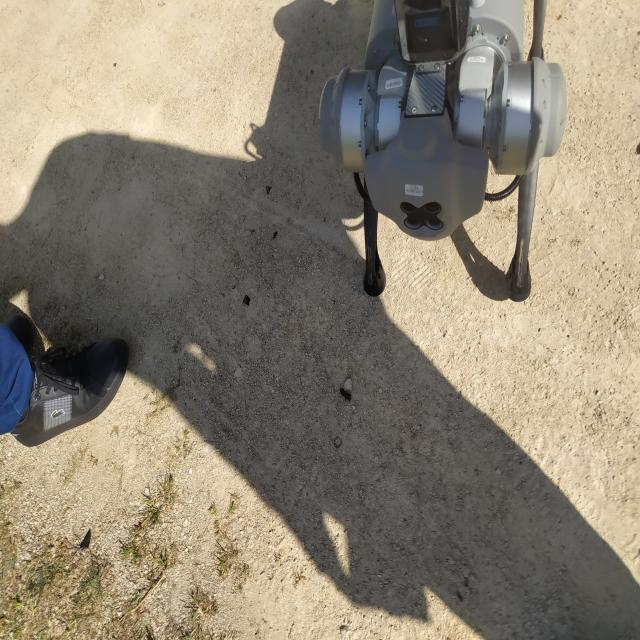unitree-go1-robot: (309, 0, 578, 328)
